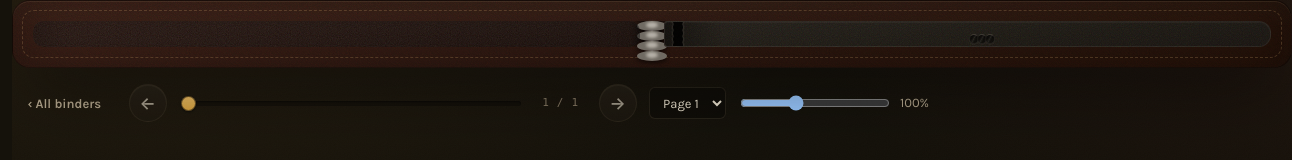
Scenario: BinderView manual arrange › selecting an already-blank slot offers Edit image and Remove empty slot instead of Keep empty
Click the button named "select this empty slot" at (974, 39), box top-left (968, 34), bottom-right (978, 44)
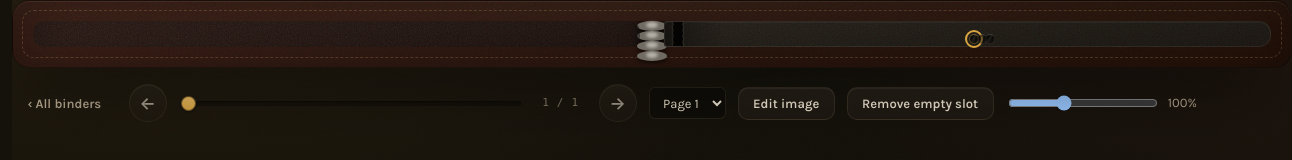
Expected: the button "Edit image" is shown, top-left (738, 86), bottom-right (835, 120)
Expected: the button "Remove empty slot" is shown, top-left (847, 86), bottom-right (994, 120)
